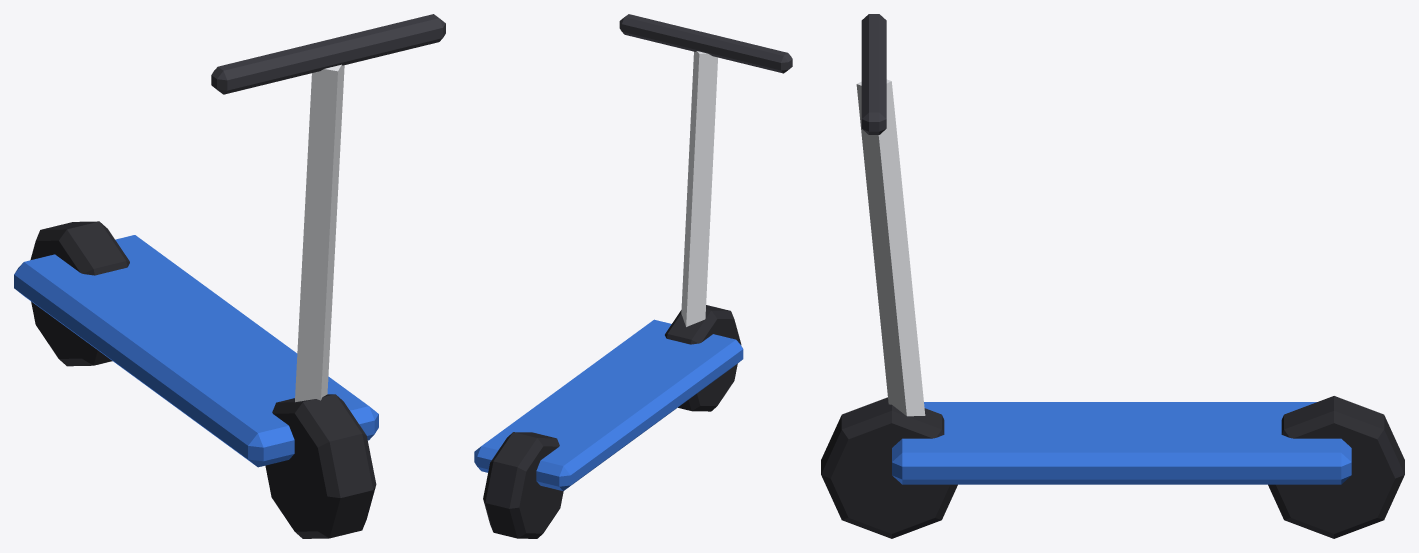
The model's file is BlueScooter.fbx.
3 views of the same model, side by side, from view 1: azimuth 30°, elevation 25°; view 2: azimuth 150°, elevation 25°; view 3: azimuth 270°, elevation 25° (orthographic). The views are drawn at different scales.
Visible parts, largest first — view 1: BlueScooter, BlueScooter_WheelF, BlueScooter_WheelB; view 2: BlueScooter, BlueScooter_WheelB, BlueScooter_WheelF; view 3: BlueScooter, BlueScooter_WheelF, BlueScooter_WheelB.
Part boxes in pixels (x1,y1,x2,y2): BlueScooter: (14,14,445,467); BlueScooter_WheelF: (265,394,376,538); BlueScooter_WheelB: (30,221,129,366); BlueScooter: (474,14,792,491); BlueScooter_WheelB: (483,432,563,538); BlueScooter_WheelF: (665,305,741,411); BlueScooter: (856,14,1351,484); BlueScooter_WheelF: (821,397,957,538); BlueScooter_WheelB: (1268,396,1404,538).
Bounding box in the file's own units: 1.4 × 2.92 × 3.3.
1 material, 1 textured.
